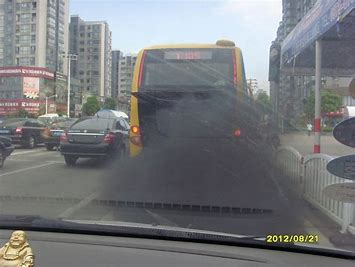smoke: (99, 119, 303, 223)
